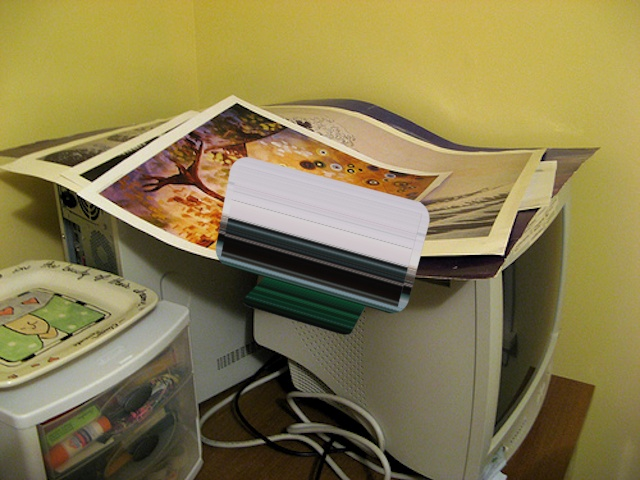monitor: (209, 145, 432, 336)
